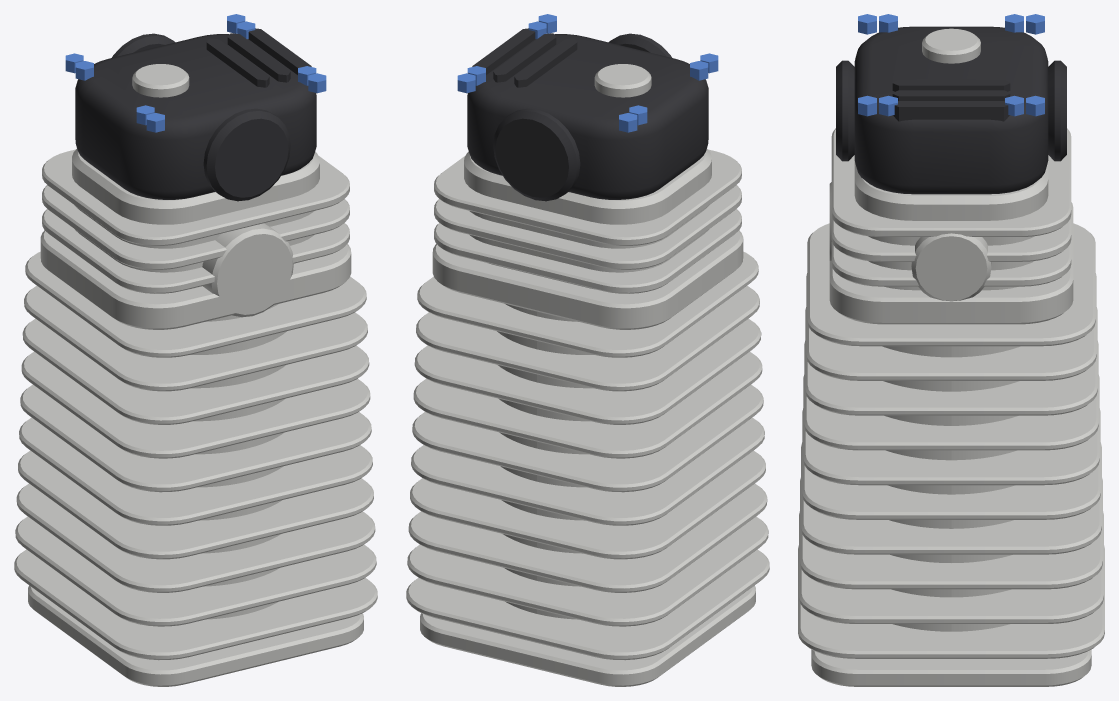
Rendered from race_high_comp_2.glb.
The picture shows the model from 3 angles, left to right: view 1: azimuth 30°, elevation 25°; view 2: azimuth 150°, elevation 25°; view 3: azimuth 270°, elevation 25°; orthographic projection. The views are drawn at different scales.
Parts seen in each view (by area): view 1: race_high_comp_2; view 2: race_high_comp_2; view 3: race_high_comp_2.
Part boxes in pixels (x1=…): race_high_comp_2: x1=14, y1=14, x2=377, y2=686; race_high_comp_2: x1=406, y1=14, x2=769, y2=686; race_high_comp_2: x1=798, y1=14, x2=1104, y2=686.
Size of the model in its own units: 0.146 by 0.3 by 0.146.
